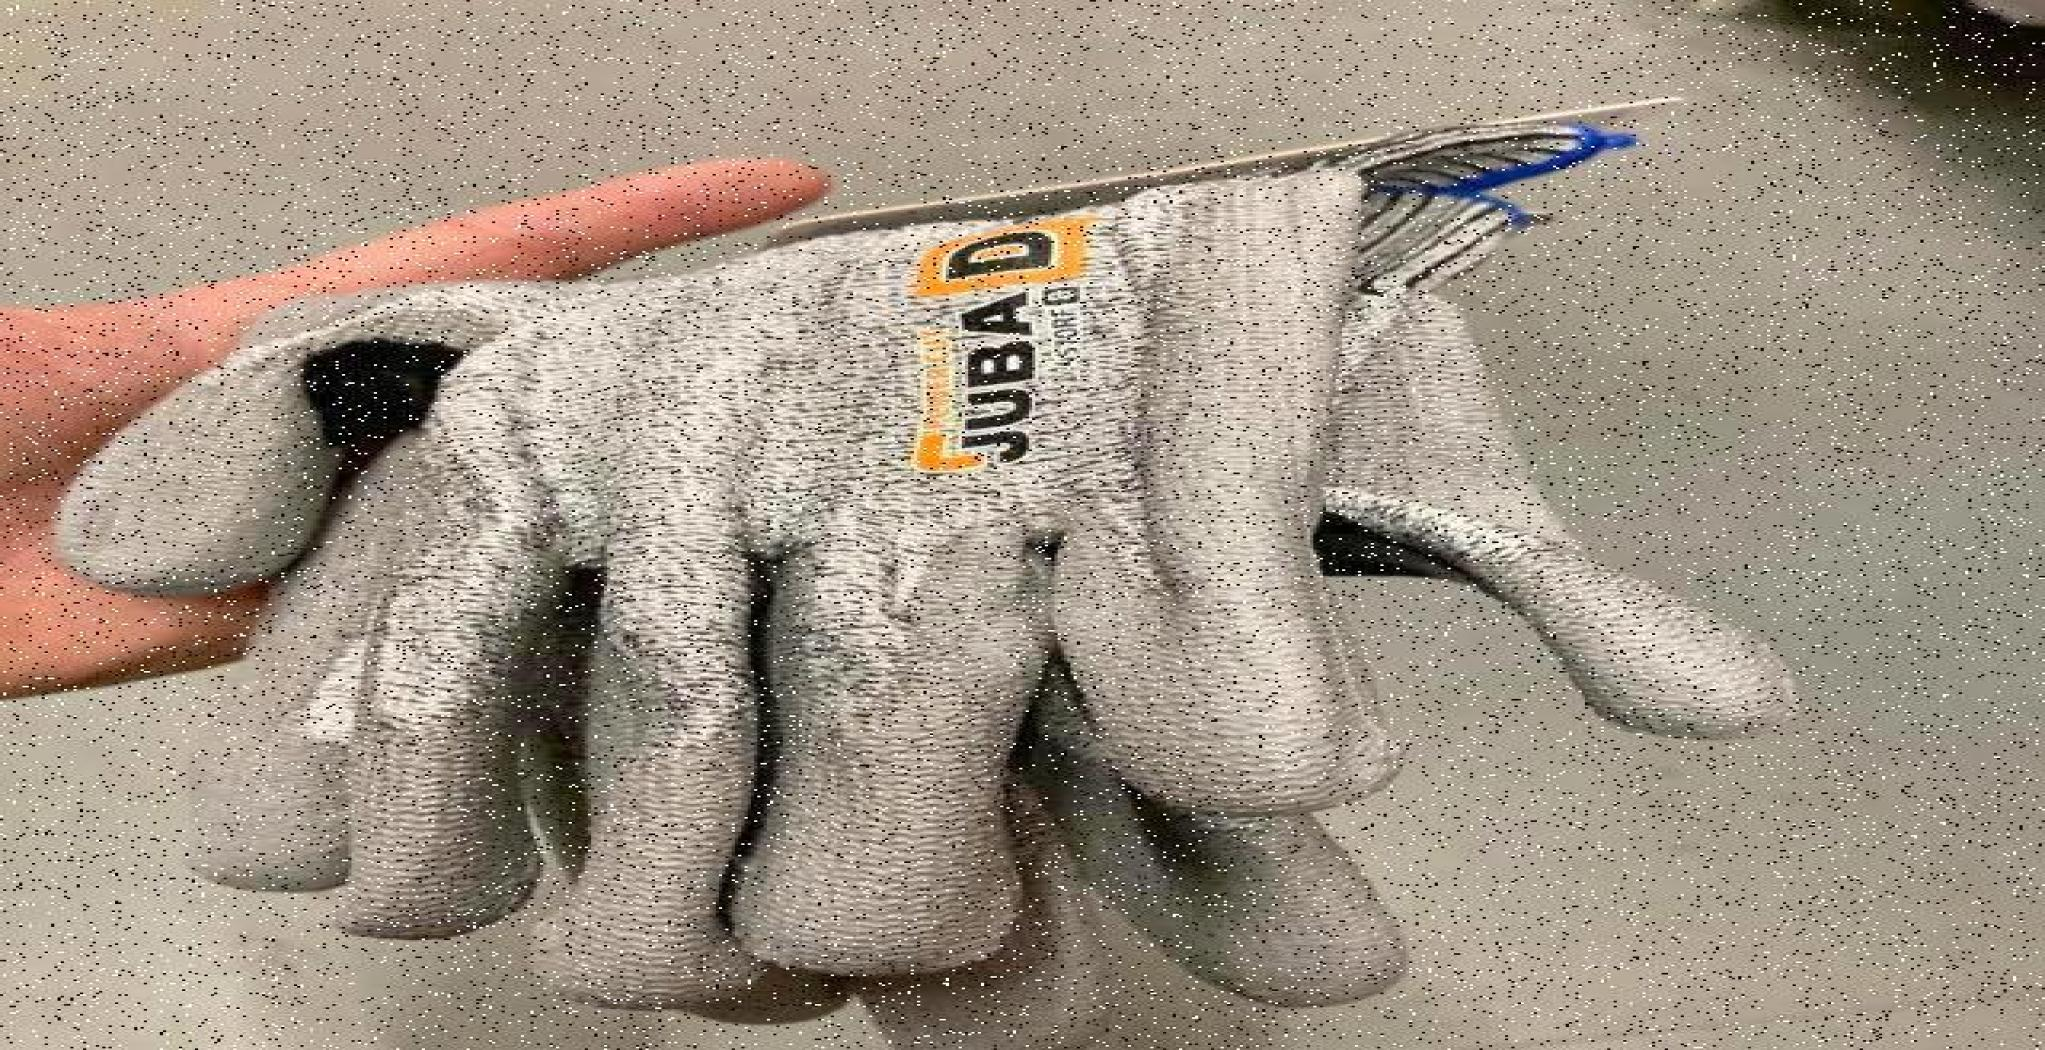gloved: (54, 113, 1806, 1014)
